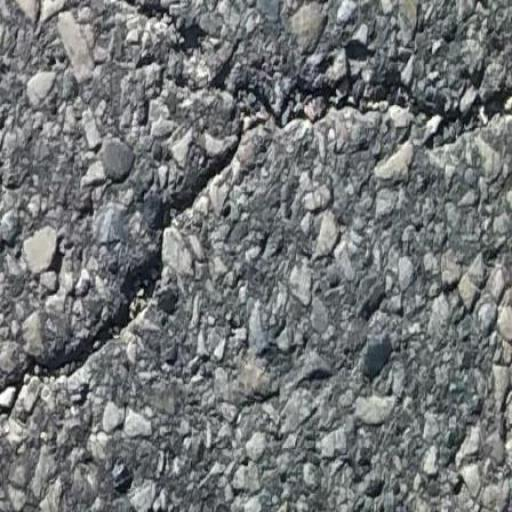spalling: (10, 73, 512, 403)
